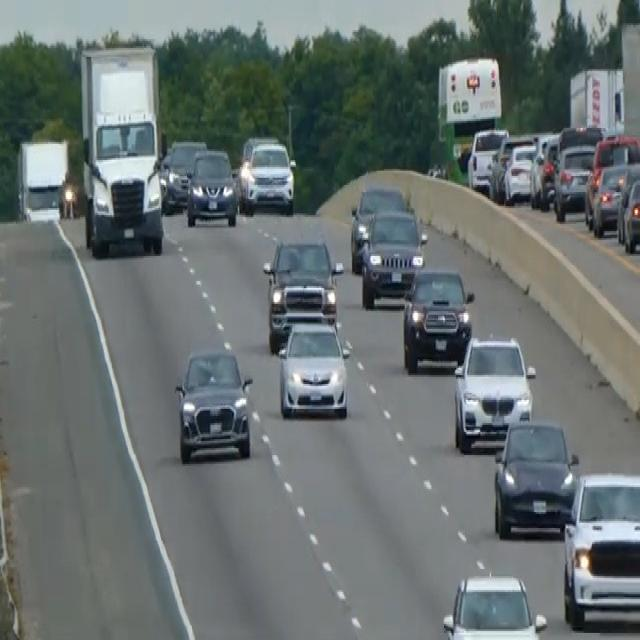car: (561, 470, 639, 630), (492, 416, 579, 539), (452, 332, 536, 452), (174, 345, 253, 464), (262, 236, 343, 348), (401, 265, 474, 373), (276, 318, 349, 420), (441, 571, 548, 638), (359, 206, 427, 310), (584, 132, 639, 230), (349, 183, 404, 272), (239, 137, 296, 215), (185, 146, 237, 228), (552, 140, 596, 220), (160, 137, 206, 210), (467, 124, 508, 194), (529, 133, 560, 210), (502, 138, 537, 204), (616, 170, 639, 252), (239, 132, 279, 167)
lorry: (78, 41, 166, 258)
motorcycle: (57, 178, 79, 220)
